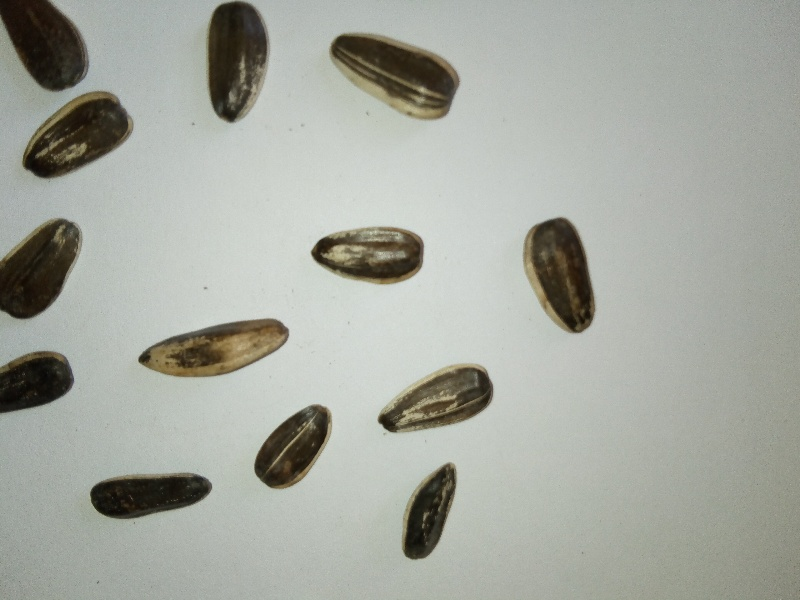girasol: (320, 24, 477, 136), (513, 209, 607, 342), (134, 314, 299, 382), (18, 93, 139, 185), (373, 356, 497, 443), (305, 219, 431, 304), (199, 1, 276, 132), (90, 459, 216, 532), (251, 399, 335, 495), (392, 459, 466, 563)
